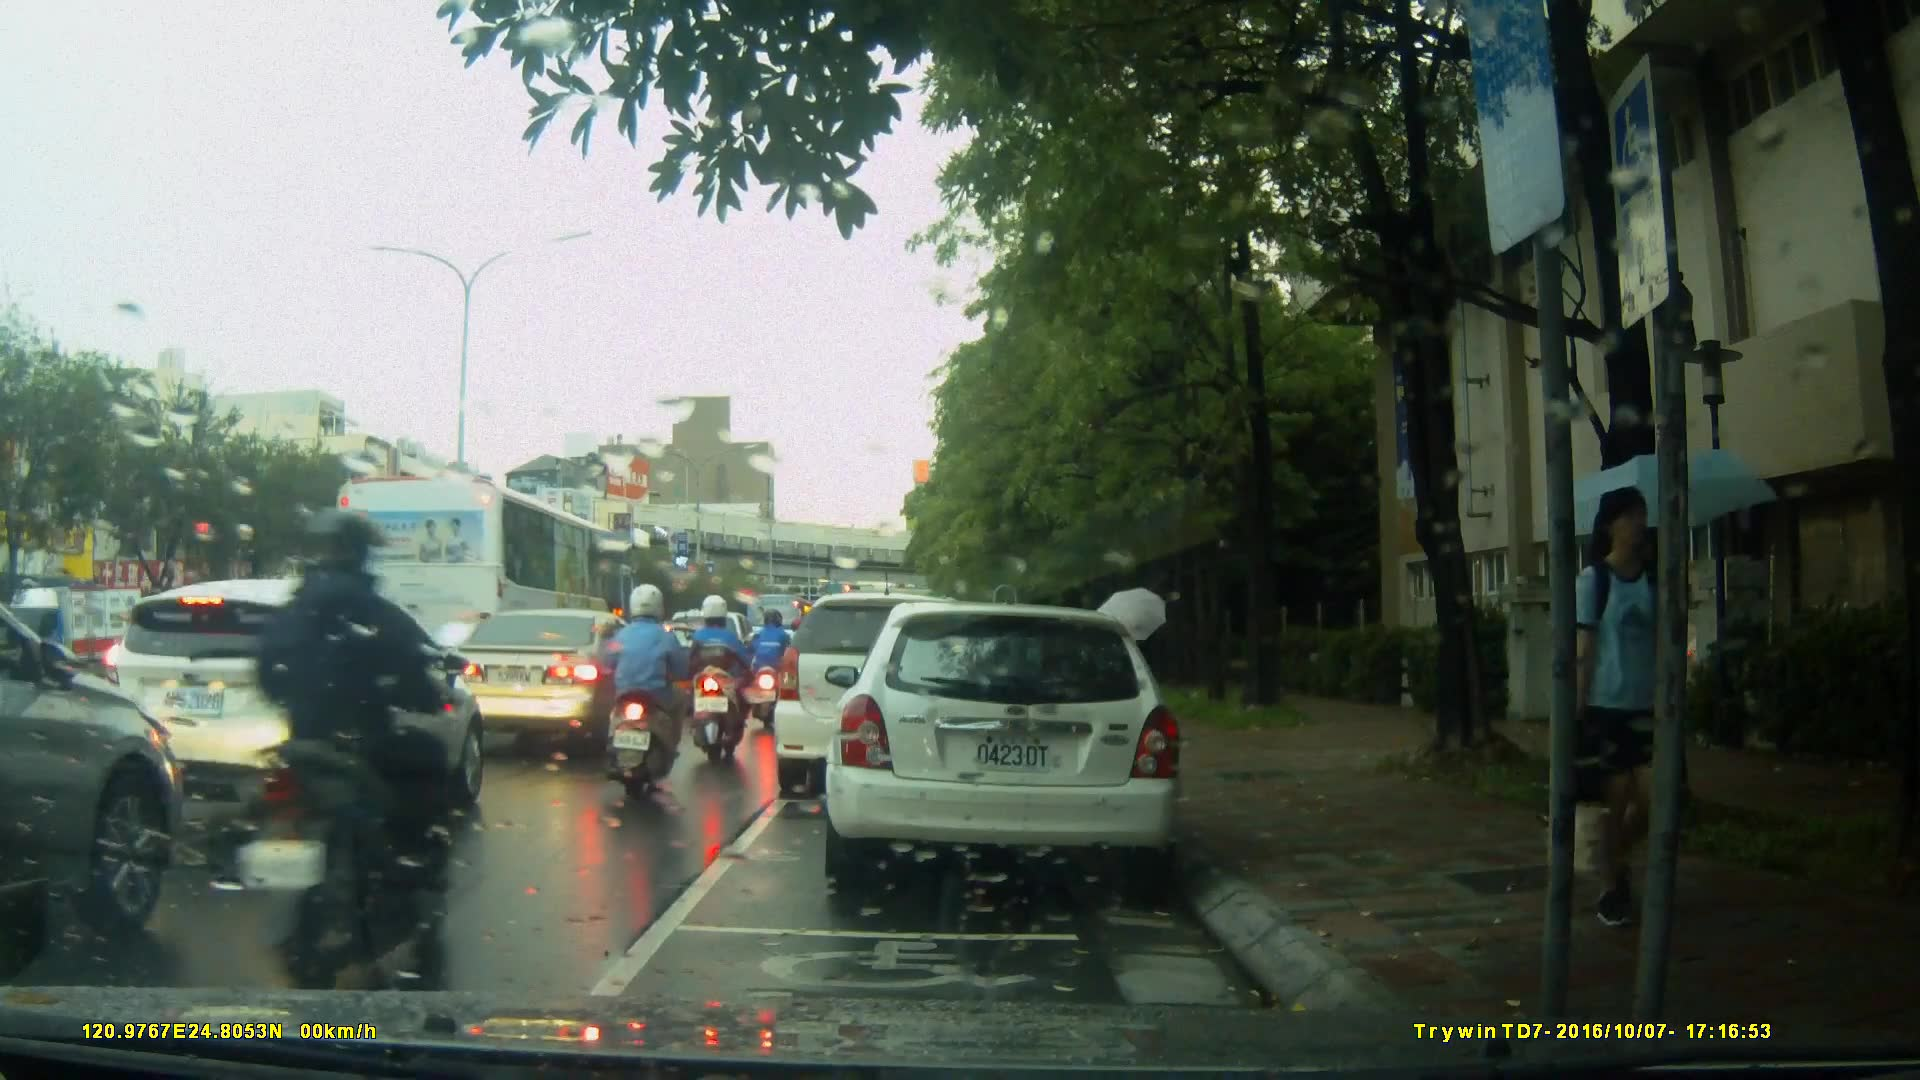pedestrian: (1540, 485, 1698, 948)
rider: (236, 508, 489, 990), (604, 586, 701, 791), (687, 590, 758, 778), (744, 608, 797, 741)
vehicle: (835, 594, 1194, 898), (101, 576, 489, 846), (328, 474, 638, 729), (1, 547, 184, 971), (776, 590, 1026, 784), (437, 606, 673, 753), (1, 586, 155, 697), (614, 621, 720, 710)
